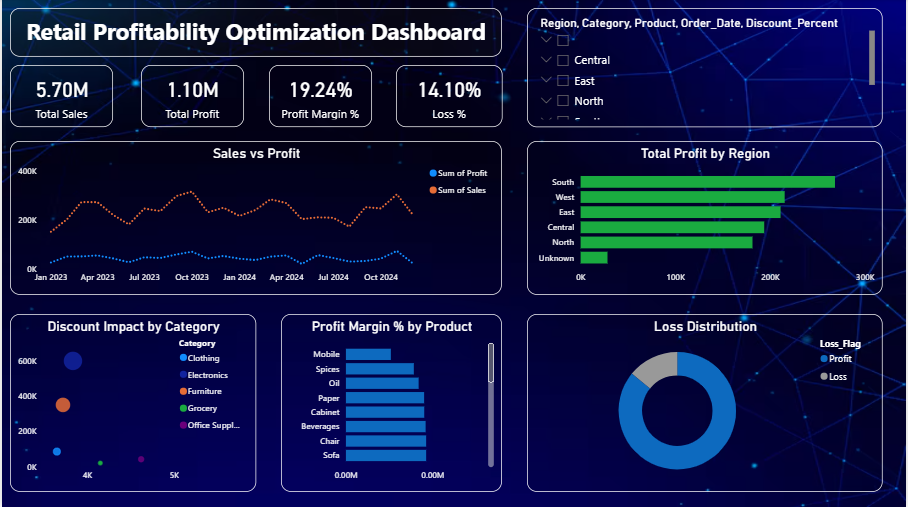

The dashboard page shown, as its layout file describes it:
{"tool":"powerbi","page":{"name":"Page 1","canvas":[1280,720],"ordinal":0},"visuals":[{"type":"card","fields":{"Values":["Measure table.Total Sales"]},"box":[11.3,93.5,146,87.9],"z":0},{"type":"card","fields":{"Values":["Measure table.Loss %"]},"box":[558.2,93.3,150.6,88.4],"z":1000},{"type":"card","fields":{"Values":["Measure table.Profit Margin %"]},"box":[378.1,93.3,145.7,88.4],"z":2000},{"type":"card","fields":{"Values":["Measure table.Total Profit"]},"box":[196.4,93.3,145.7,88.4],"z":3000},{"type":"lineChart","title":"Sales vs Profit","fields":{"Y":["Sum(retail_sales.Profit)","Sum(retail_sales.Sales)"],"Category":["retail_sales.Order_Date.Variation.Date Hierarchy.Year","retail_sales.Order_Date.Variation.Date Hierarchy.Month"]},"box":[11.5,201.3,697.3,217.7],"z":4000},{"type":"scatterChart","title":"Discount Impact by Category","fields":{"X":["Sum(retail_sales.Discount_Percent)"],"Y":["Measure table.Total Profit"],"Size":["Measure table.Total Sales"],"Series":["retail_sales.Category"]},"box":[11.5,446.9,348.6,252.1],"z":5000},{"type":"barChart","fields":{"Category":["retail_sales.Product"],"Y":["Measure table.Profit Margin %"]},"box":[396.1,446.9,312.6,252.1],"z":6000},{"type":"barChart","fields":{"Category":["retail_sales.Region"],"Y":["Measure table.Total Profit"]},"box":[744.8,201.3,504.1,217.7],"z":7000},{"type":"donutChart","title":"Loss Distribution","fields":{"Category":["retail_sales.Loss_Flag"],"Y":["CountNonNull(retail_sales.Order_ID)"]},"box":[744.8,446.9,504.1,252.1],"z":8000},{"type":"slicer","fields":{"Values":["retail_sales.Region","retail_sales.Category","retail_sales.Product","retail_sales.Order_Date","retail_sales.Discount_Percent"]},"box":[744.8,13.1,504.1,168.6],"z":9000},{"type":"textbox","box":[11.3,12.8,697.3,69.4],"z":10000}]}

Visuals, with their boxes in screenshot pixels (x1, y1, x2, y2), scaled from the page's 1280x720 canvas onto the 908x507 screenshot:
card - Measure table.Total Sales: BBox(8, 66, 112, 128)
card - Measure table.Loss %: BBox(396, 66, 503, 128)
card - Measure table.Profit Margin %: BBox(268, 66, 372, 128)
card - Measure table.Total Profit: BBox(139, 66, 243, 128)
"Sales vs Profit" lineChart: BBox(8, 142, 503, 295)
"Discount Impact by Category" scatterChart: BBox(8, 315, 255, 492)
barChart - retail_sales.Product x Measure table.Profit Margin %: BBox(281, 315, 503, 492)
barChart - retail_sales.Region x Measure table.Total Profit: BBox(528, 142, 886, 295)
"Loss Distribution" donutChart: BBox(528, 315, 886, 492)
slicer - retail_sales.Region x retail_sales.Category: BBox(528, 9, 886, 128)
textbox: BBox(8, 9, 503, 58)
